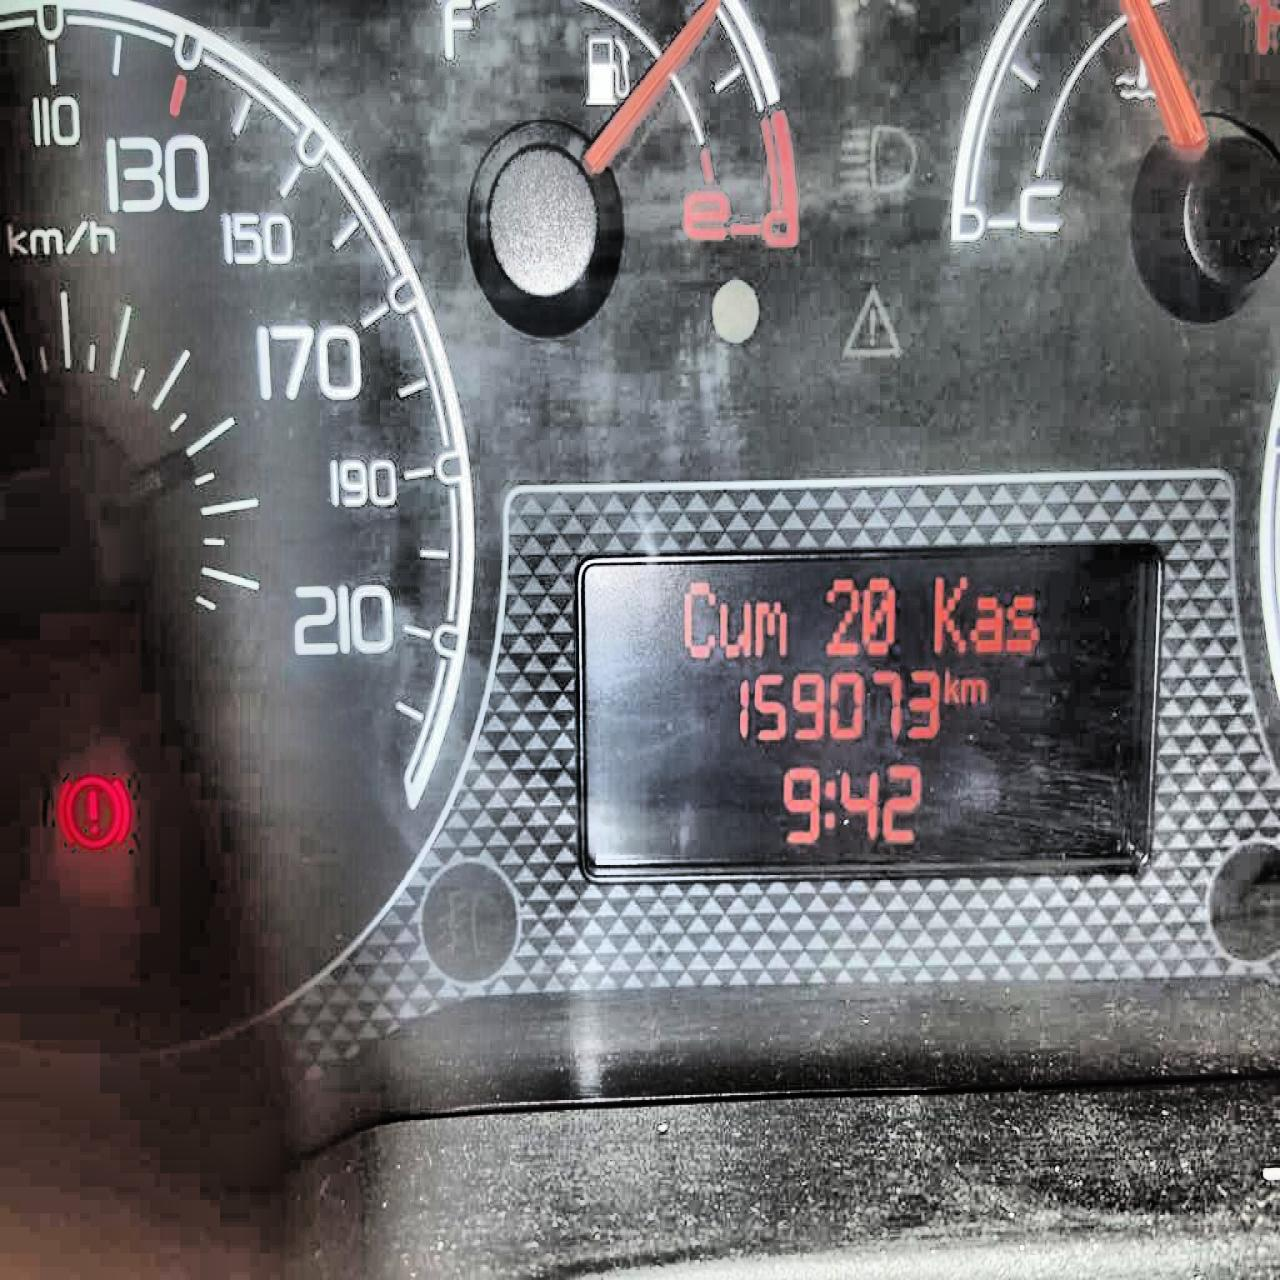0: (862, 577, 893, 653), (828, 670, 863, 737)
1: (737, 676, 749, 738)
2: (883, 763, 920, 842), (824, 577, 858, 653)
3: (907, 668, 939, 738)
4: (840, 770, 878, 840)
5: (754, 673, 785, 740)
7: (871, 668, 900, 734)
9: (782, 764, 818, 843), (791, 672, 824, 738)
X: (933, 572, 967, 653), (682, 580, 716, 656), (1003, 593, 1037, 652), (969, 593, 1002, 652), (717, 600, 750, 656), (754, 600, 787, 655), (823, 777, 837, 830), (960, 676, 986, 703), (944, 670, 960, 702)
odometer: (576, 538, 1164, 885)
